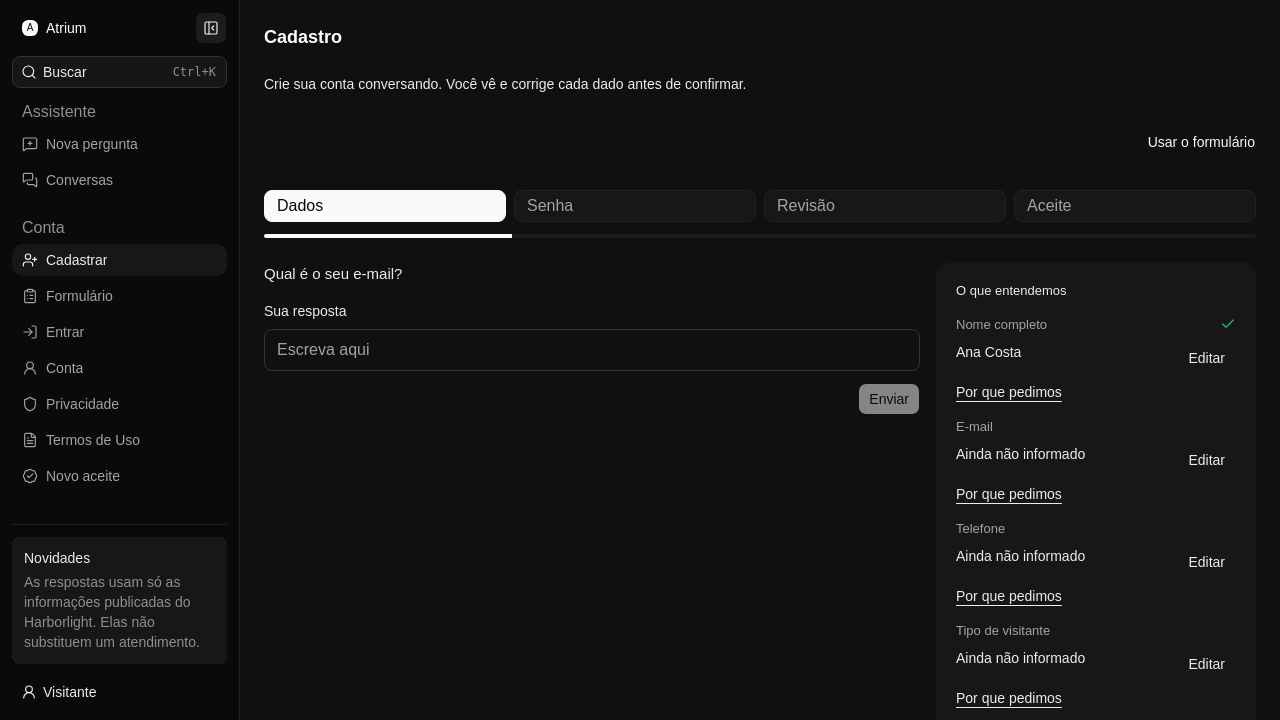
it: telas do cadastro › oferece entrar quando o e-mail já tem conta
The width and height of the screenshot is (1280, 720).
Step 1. Type "ana@example.com" into the text box labelled "Sua resposta" → (592, 350), box [264,329,920,371]
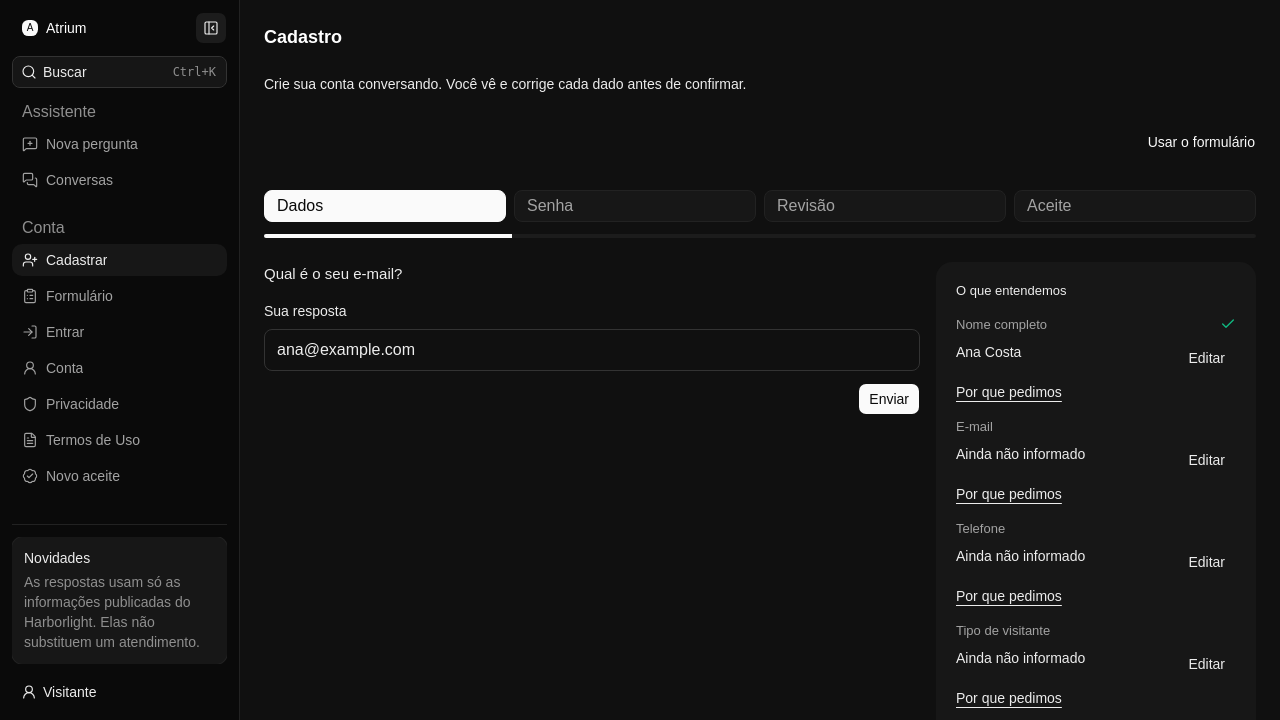
Step 2. Click the button "Enviar" → (889, 399), box [858,383,920,415]
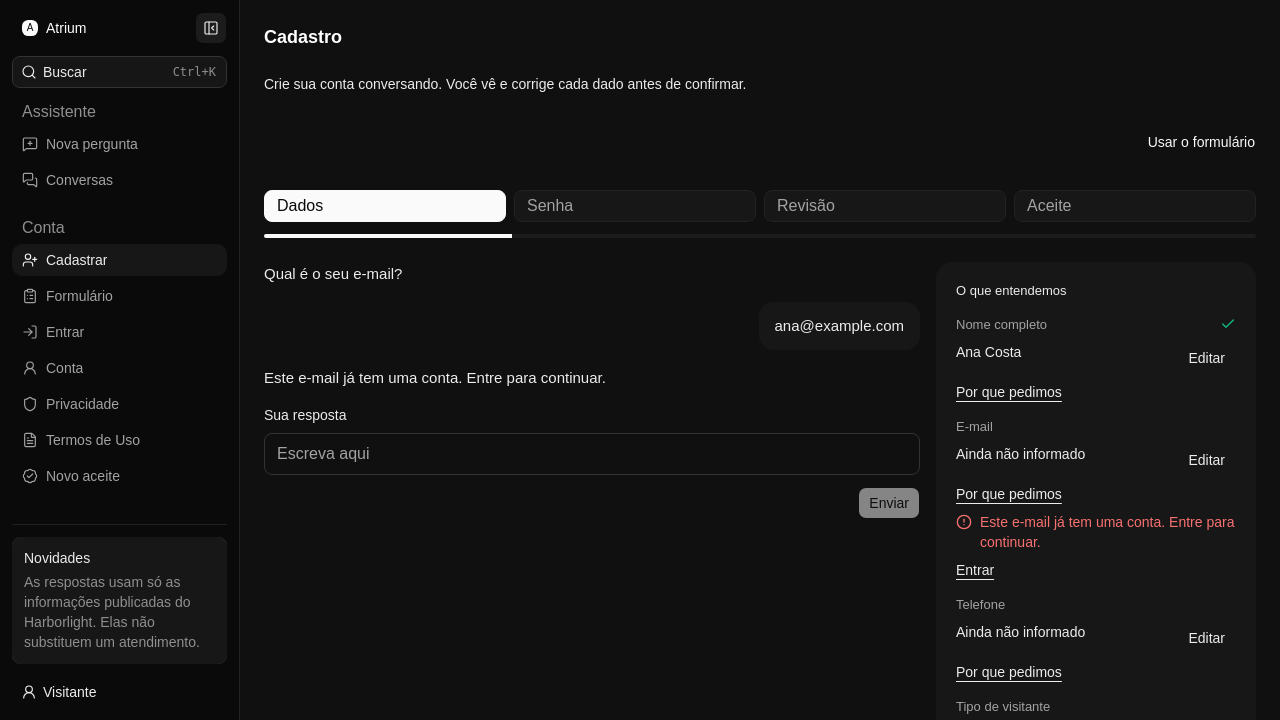
Now the message reads "Este e-mail já tem uma conta. Entre para continuar.", box [980,514,1234,550]
